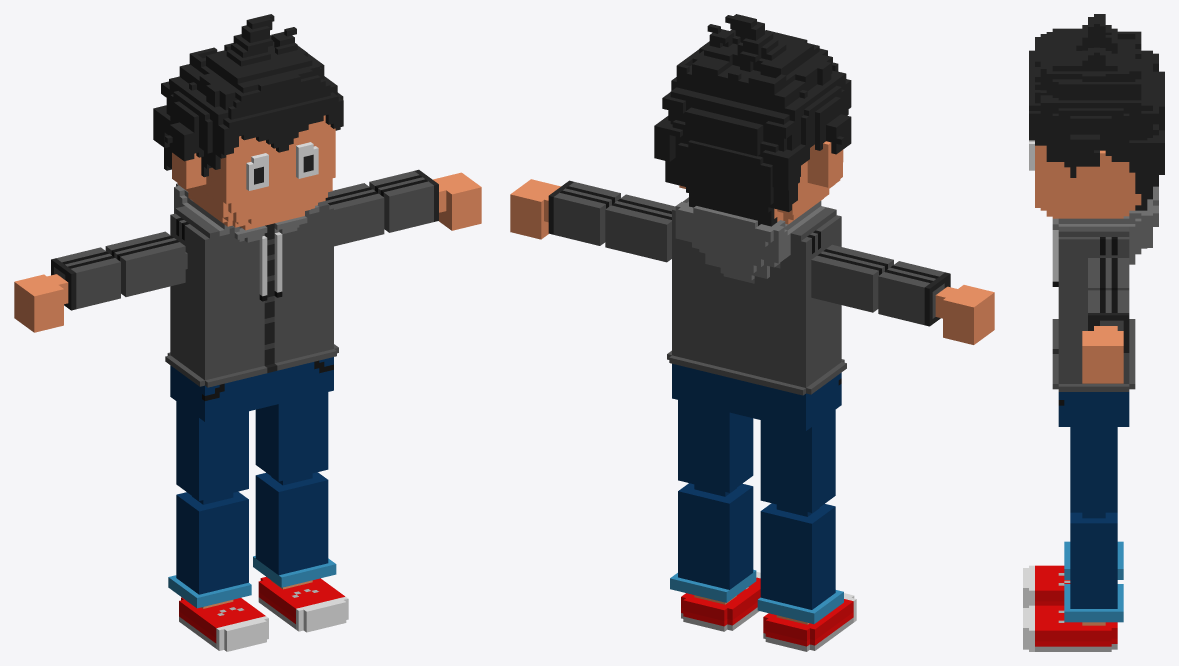
The model's file is GrayBoy.obj.
3 renders of one model, left to right at view 1: azimuth 30°, elevation 25°; view 2: azimuth 150°, elevation 25°; view 3: azimuth 270°, elevation 25°, orthographic. The views are drawn at different scales.
Bounding box in the file's own units: 90 × 113 × 24.
